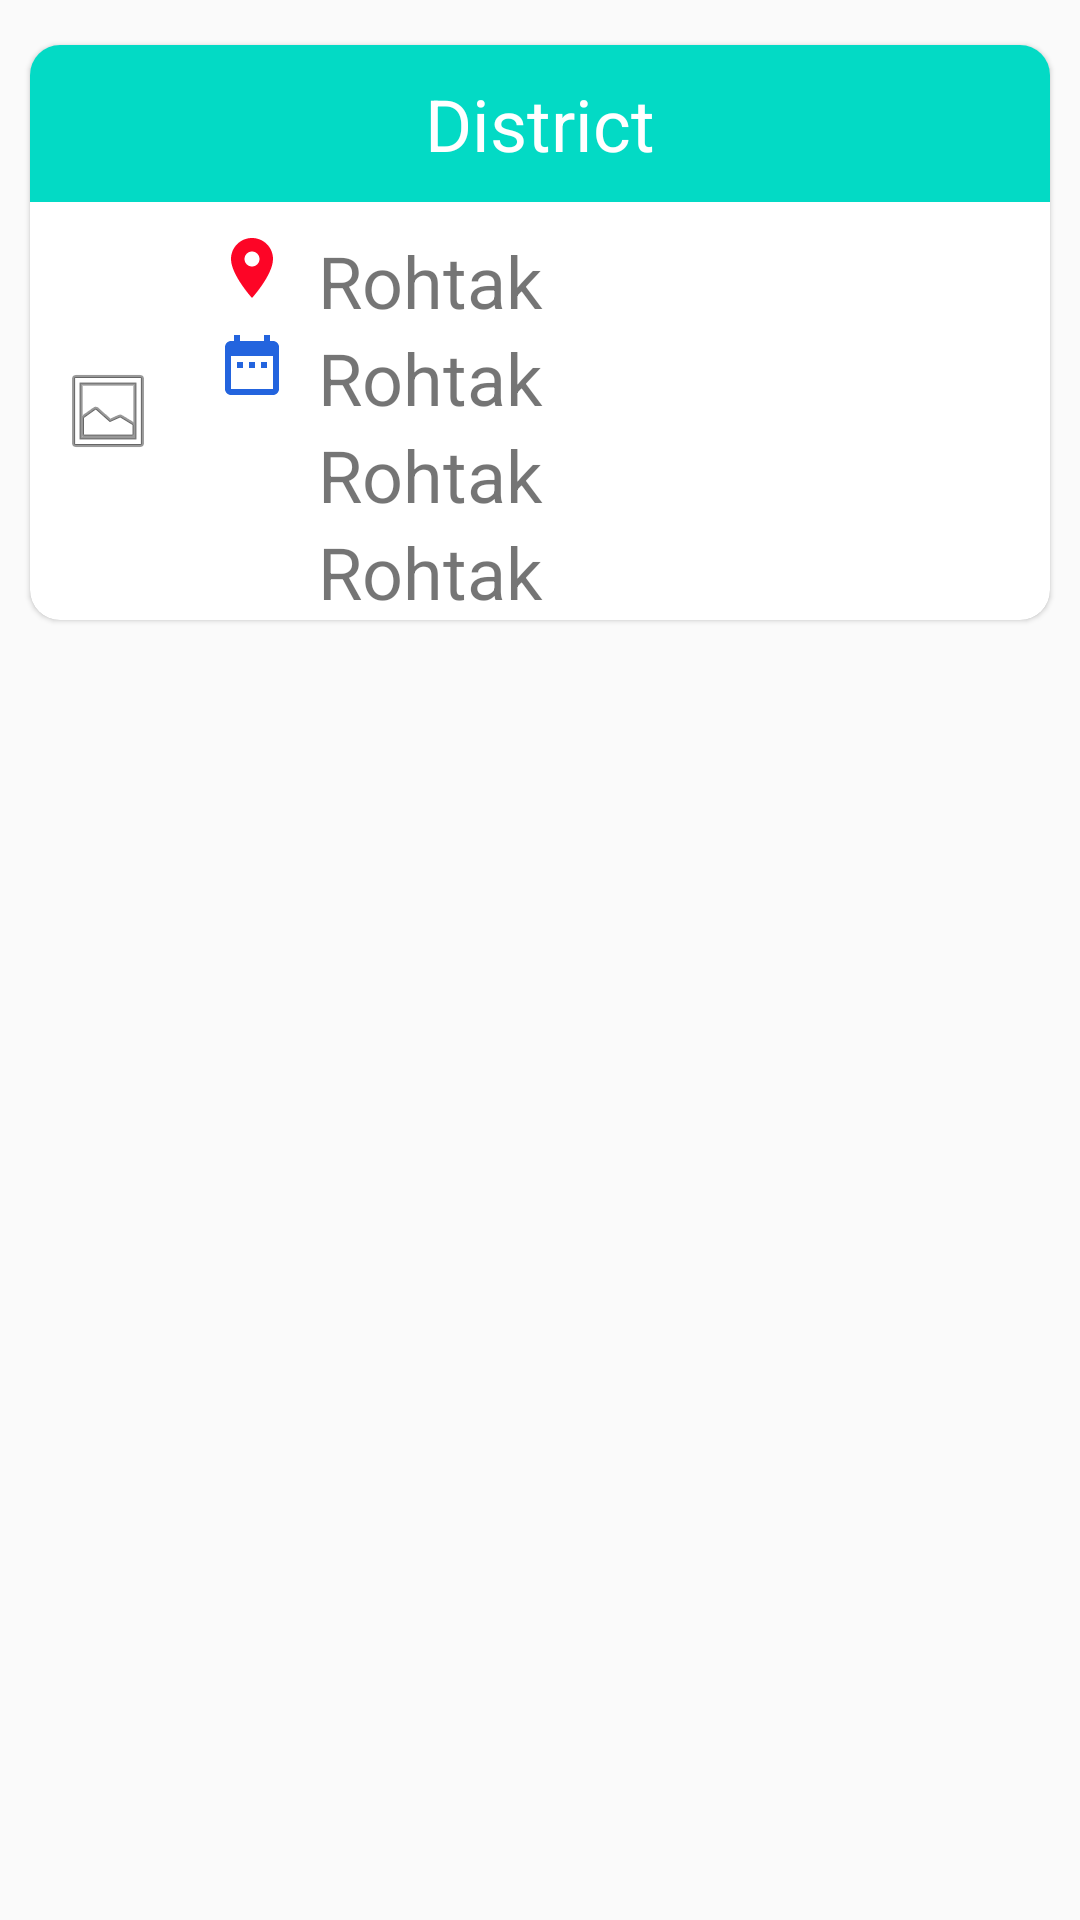

Icons on this 1080w x 1920h Android screen, each with the point to tap as (x,y):
calendar: (252,365)
gallery: (108,411)
location: (252,268)
